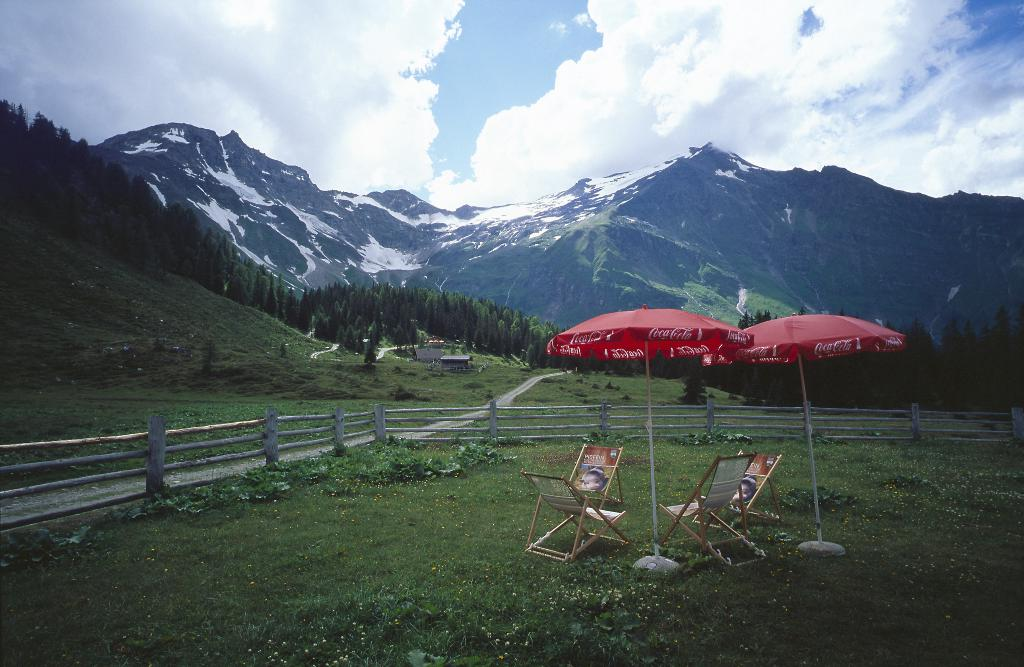Tree: (0, 102, 1023, 409), (527, 321, 548, 360)
